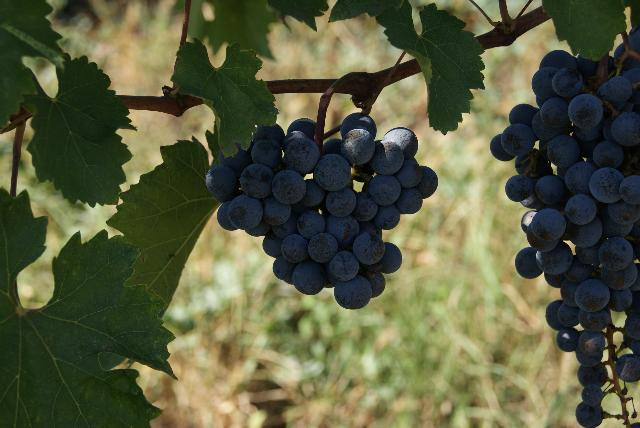grapes: (491, 25, 640, 428), (205, 112, 438, 310)
